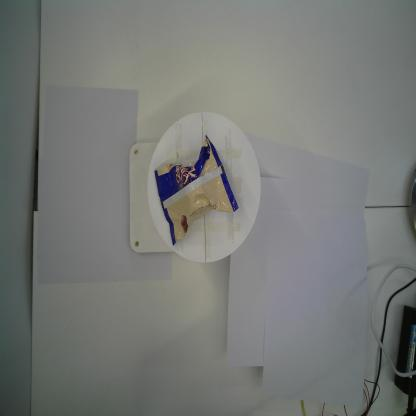Dessert: (153, 135, 239, 247)
